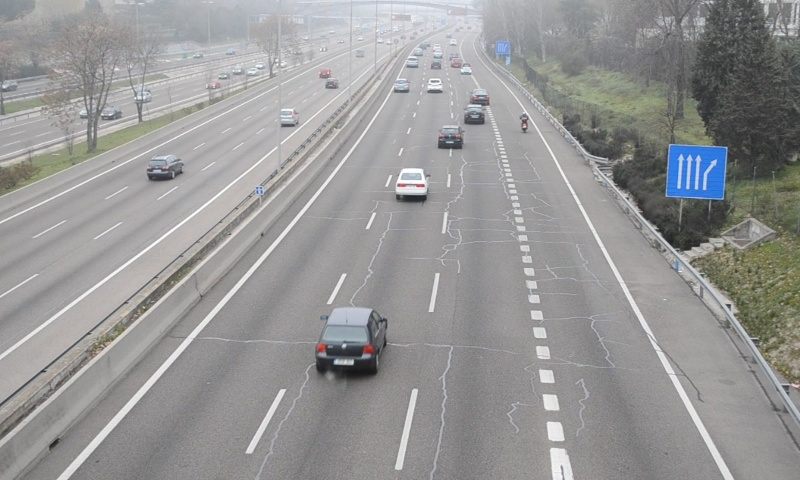car: (315, 307, 386, 370), (396, 167, 428, 196), (438, 125, 464, 149), (464, 104, 485, 125), (470, 88, 491, 104), (426, 77, 444, 93), (393, 78, 410, 92)
motorcycle: (519, 112, 530, 134)
